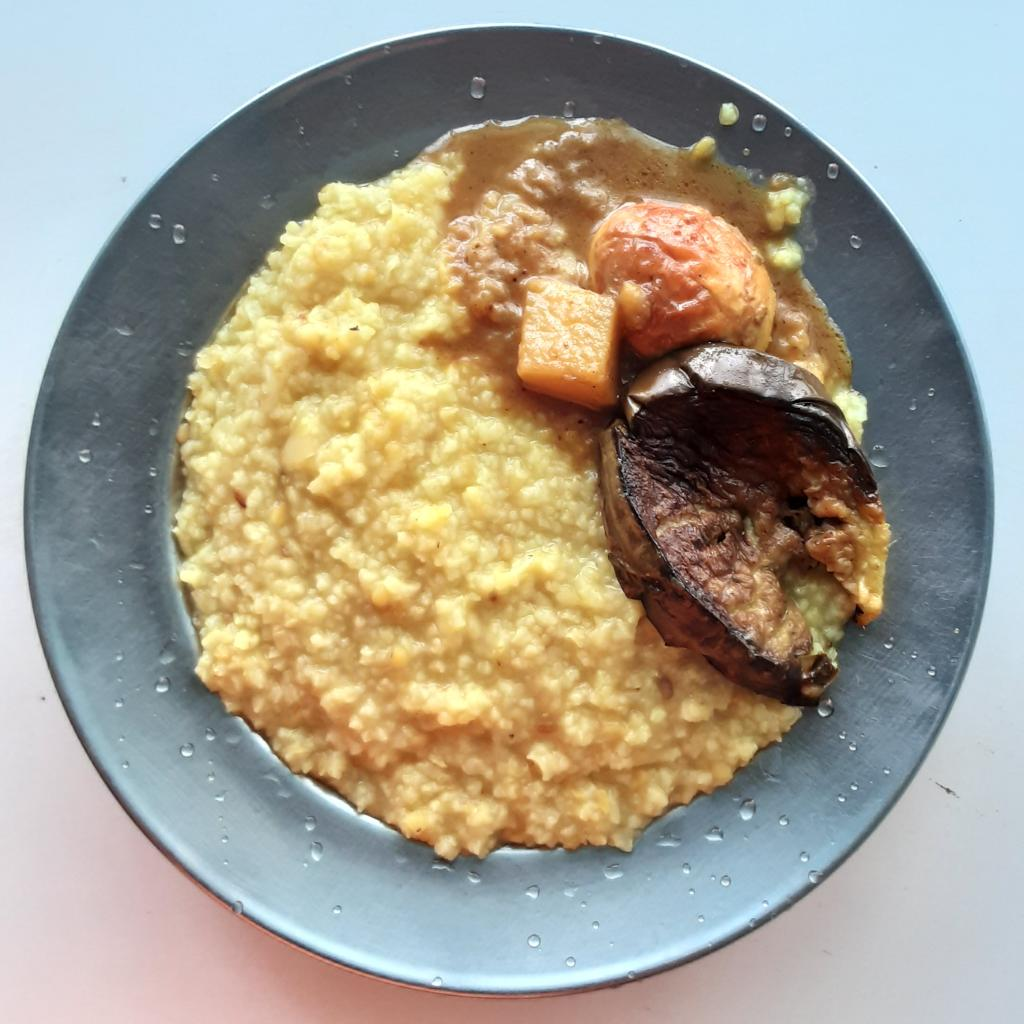begun-vaji: (598, 341, 888, 701)
egg-boiled: (586, 198, 775, 362)
khichuri: (171, 115, 864, 867)
potato: (517, 271, 620, 409)
